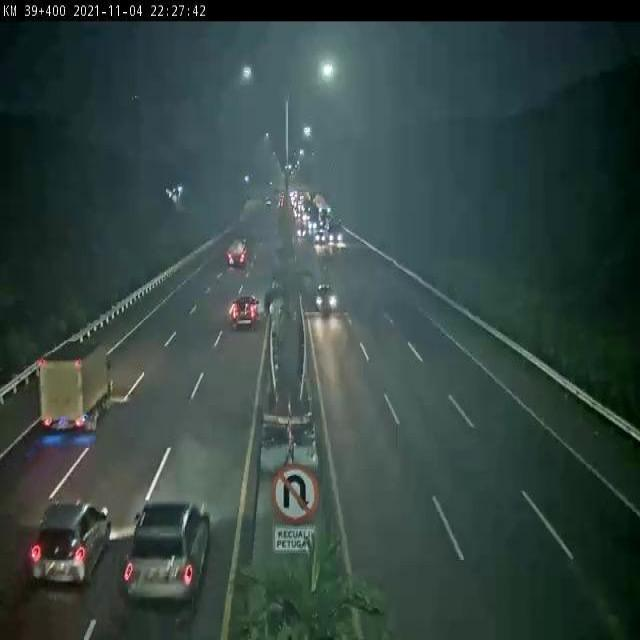car: (123, 500, 214, 603), (28, 497, 112, 587), (230, 290, 261, 330), (314, 283, 339, 316)
truck-l-: (226, 233, 249, 271)
truck-m-: (39, 339, 116, 437)
